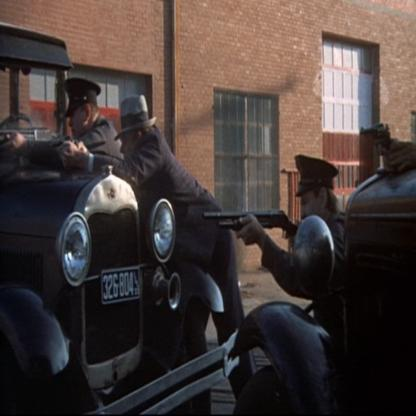gun: (202, 178, 302, 247), (14, 124, 81, 160)
